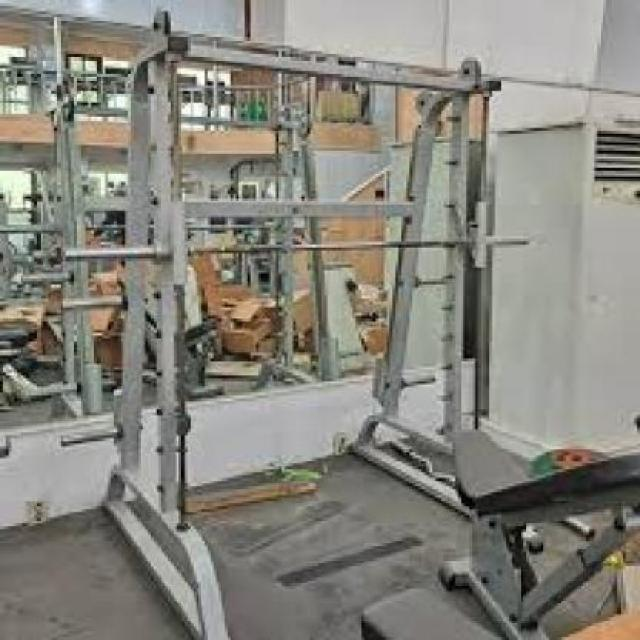smith machine: (101, 7, 521, 640)
